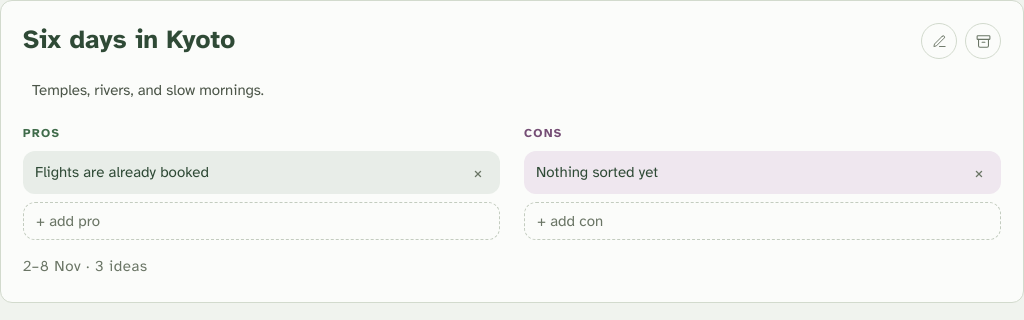
Scenario: TripCard › saves a new title on Enter
The image size is (1024, 320).
Click the button named "Edit Six days in Kyoto": (939, 41) [921,23,957,59]
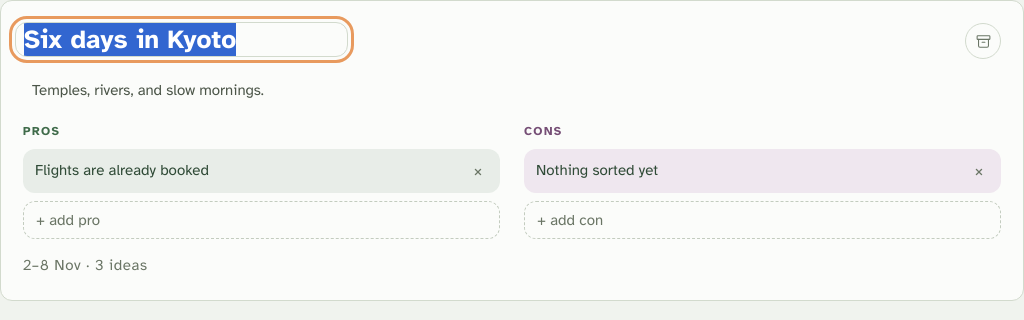
Replace the text in the field named "Trip name for Six days in Kyoto" with "Kyoto, take two": (182, 39) [15,22,348,57]
Then press Enter
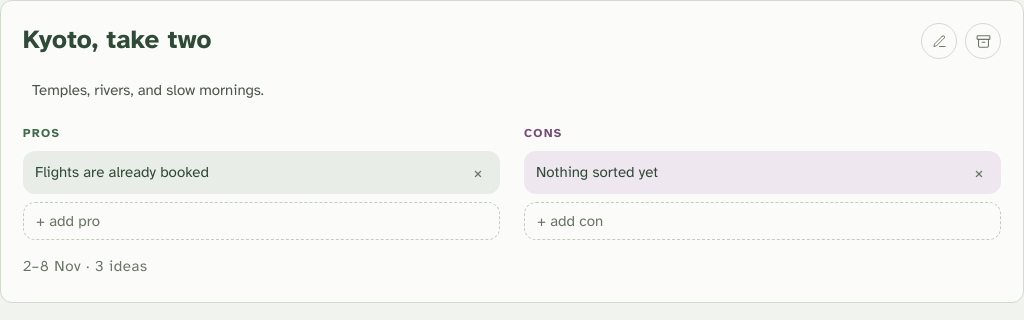
Expected: the link "Kyoto, take two" is shown, [23,23,212,56]
